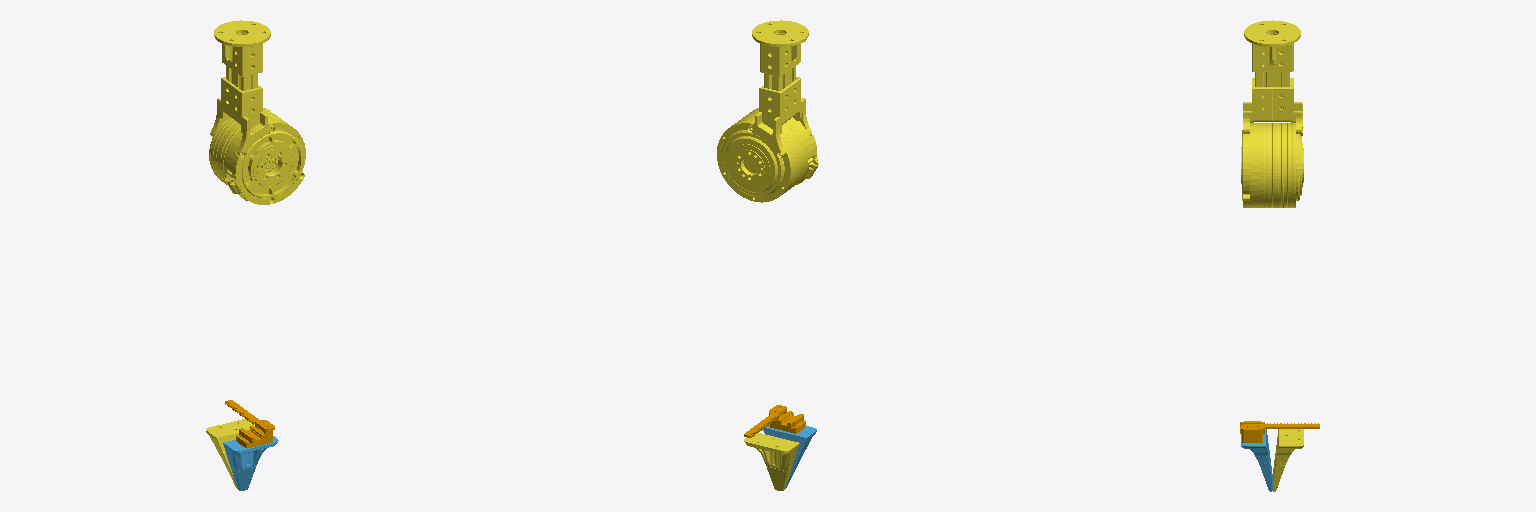
The robot description file, URDF, robot "vxai":
<?xml version="1.0"?>
<robot name="vxai">
  <material name="trossen_black">
    <texture filename="package://trossen_arm_description/meshes/trossen_black.png"/>
  </material>
  <link name="base_link">
    <inertial>
      <origin rpy="0 0 0" xyz="-0.00002199 -0.03351643 0.00006205"/>
      <mass value="1.87165014"/>
      <inertia ixx="0.00209272" ixy="-0.00000341" ixz="-0.00000001" iyy="0.00299206" iyz="-0.00000068" izz="0.00207913"/>
    </inertial>
    <visual>
      <origin rpy="0 0 0" xyz="0 0 0"/>
      <geometry>
        <mesh filename="package://trossen_arm_description/meshes/vxai/base_link_right.stl"/>
      </geometry>
      <material name="trossen_black"/>
    </visual>
    <collision>
      <origin rpy="0 0 0" xyz="0 0 0"/>
      <geometry>
        <mesh filename="package://trossen_arm_description/meshes/vxai/base_link_right.stl"/>
      </geometry>
    </collision>
  </link>
  <link name="link_1">
    <inertial>
      <origin rpy="0 0 0" xyz="0.00275058 -0.05744640 -0.00007470"/>
      <mass value="1.28114157"/>
      <inertia ixx="0.00180008" ixy="0.00001517" ixz="0.00000048" iyy="0.00124234" iyz="-0.00000523" izz="0.00154695"/>
    </inertial>
    <visual>
      <origin rpy="0 0 0" xyz="0 0 0"/>
      <geometry>
        <mesh filename="package://trossen_arm_description/meshes/vxai/link_1_right.stl"/>
      </geometry>
      <material name="trossen_black"/>
    </visual>
    <collision>
      <origin rpy="0 0 0" xyz="0 0 0"/>
      <geometry>
        <mesh filename="package://trossen_arm_description/meshes/vxai/link_1_right.stl"/>
      </geometry>
    </collision>
  </link>
  <joint name="joint_0" type="revolute">
    <parent link="base_link"/>
    <child link="link_1"/>
    <origin rpy="0 0 0" xyz="0 -0.068 0"/>
    <axis xyz="0 -1 0"/>
    <limit effort="0" lower="-1.5707963267948966" upper="3.141592653589793" velocity="6.283185307179586"/>
  </joint>
  <link name="link_2">
    <inertial>
      <origin rpy="0 0 0" xyz="0.00004155 0.00000477 -0.09223936"/>
      <mass value="1.58168513"/>
      <inertia ixx="0.00303540" ixy="0.00000094" ixz="0.00000007" iyy="0.00325708" iyz="0.00000058" izz="0.00202764"/>
    </inertial>
    <visual>
      <origin rpy="0 0 0" xyz="0 0 0"/>
      <geometry>
        <mesh filename="package://trossen_arm_description/meshes/vxai/link_2.stl"/>
      </geometry>
      <material name="trossen_black"/>
    </visual>
    <collision>
      <origin rpy="0 0 0" xyz="0 0 0"/>
      <geometry>
        <mesh filename="package://trossen_arm_description/meshes/vxai/link_2.stl"/>
      </geometry>
    </collision>
  </link>
  <joint name="joint_1" type="revolute">
    <parent link="link_1"/>
    <child link="link_2"/>
    <axis xyz="1 0 0"/>
    <origin rpy="0 0 0" xyz="0 -0.064 0"/>
    <limit effort="0" lower="-3.141592653589793" upper="0" velocity="6.283185307179586"/>
  </joint>
  <link name="link_3">
    <inertial>
      <origin rpy="0 0 0" xyz="0.01469489 -0.00233198 -0.13174594"/>
      <mass value="1.51522891"/>
      <inertia ixx="0.00491722" ixy="0.00001966" ixz="0.00061652" iyy="0.00521379" iyz="-0.00008813" izz="0.00131018"/>
    </inertial>
    <visual>
      <origin rpy="0 0 0" xyz="0 0 0"/>
      <geometry>
        <mesh filename="package://trossen_arm_description/meshes/vxai/link_3_right.stl"/>
      </geometry>
      <material name="trossen_black"/>
    </visual>
    <collision>
      <origin rpy="0 0 0" xyz="0 0 0"/>
      <geometry>
        <mesh filename="package://trossen_arm_description/meshes/vxai/link_3_right.stl"/>
      </geometry>
    </collision>
  </link>
  <joint name="joint_2" type="revolute">
    <origin rpy="0 0 0" xyz="0 0 -0.1284"/>
    <parent link="link_2"/>
    <child link="link_3"/>
    <axis xyz="0 0 -1"/>
    <limit effort="0" lower="-1.5707963267948966" upper="1.5707963267948966" velocity="6.283185307179586"/>
  </joint>
  <link name="link_4">
    <inertial>
      <origin rpy="0 0 0" xyz="-0.01788633 0.00011005 -0.07293050"/>
      <mass value="0.59839689"/>
      <inertia ixx="0.00082356" ixy="0.00000013" ixz="-0.00008634" iyy="0.00069719" iyz="0.00000093" izz="0.00052102"/>
    </inertial>
    <visual>
      <origin rpy="0 0 0" xyz="0 0 0"/>
      <geometry>
        <mesh filename="package://trossen_arm_description/meshes/vxai/link_4.stl"/>
      </geometry>
      <material name="trossen_black"/>
    </visual>
    <collision>
      <origin rpy="0 0 0" xyz="0 0 0"/>
      <geometry>
        <mesh filename="package://trossen_arm_description/meshes/vxai/link_4.stl"/>
      </geometry>
    </collision>
  </link>
  <joint name="joint_3" type="revolute">
    <origin rpy="0 0 0" xyz="0.02 0 -0.159"/>
    <parent link="link_3"/>
    <child link="link_4"/>
    <axis xyz="0 -1 0"/>
    <limit effort="0" lower="0" upper="2.356194490192345" velocity="6.283185307179586"/>
  </joint>
  <link name="link_5">
    <inertial>
      <origin rpy="0 0 0" xyz="-0.00011067 0.00225112 -0.04045079"/>
      <mass value="0.60644692"/>
      <inertia ixx="0.00094550" ixy="0.00000375" ixz="-0.00000789" iyy="0.00054664" iyz="-0.00000214" izz="0.00066100"/>
    </inertial>
    <visual>
      <origin rpy="0 0 0" xyz="0 0 0"/>
      <geometry>
        <mesh filename="package://trossen_arm_description/meshes/vxai/link_5.stl"/>
      </geometry>
      <material name="trossen_black"/>
    </visual>
    <collision>
      <origin rpy="0 0 0" xyz="0 0 0"/>
      <geometry>
        <mesh filename="package://trossen_arm_description/meshes/vxai/link_5.stl"/>
      </geometry>
    </collision>
  </link>
  <joint name="joint_4" type="revolute">
    <origin rpy="0 0 0" xyz="-0.02 0 -0.1065"/>
    <parent link="link_4"/>
    <child link="link_5"/>
    <axis xyz="0 0 -1"/>
    <limit effort="0" lower="-1.5707963267948966" upper="1.5707963267948966" velocity="6.283185307179586"/>
  </joint>
  <link name="link_6">
    <inertial>
      <origin rpy="0 0 0" xyz="-0.00058762 0.00058070 0.00001797"/>
      <mass value="0.38858221"/>
      <inertia ixx="0.00018958" ixy="-0.00000050" ixz="0.00000001" iyy="0.00026787" iyz="0.00000008" izz="0.00031658"/>
    </inertial>
    <visual>
      <origin rpy="0 0 0" xyz="0 0 0"/>
      <geometry>
        <mesh filename="package://trossen_arm_description/meshes/vxai/link_6.stl"/>
      </geometry>
      <material name="trossen_black"/>
    </visual>
    <collision>
      <origin rpy="0 0 0" xyz="0 0 0"/>
      <geometry>
        <mesh filename="package://trossen_arm_description/meshes/vxai/link_6.stl"/>
      </geometry>
    </collision>
  </link>
  <joint name="joint_5" type="revolute">
    <origin rpy="0 0 0" xyz="0 0 -0.113"/>
    <parent link="link_5"/>
    <child link="link_6"/>
    <axis xyz="0 1 0"/>
    <limit effort="0" lower="-0.7853981633974483" upper="0.7853981633974483" velocity="6.283185307179586"/>
  </joint>
  <link name="link_7">
    <inertial>
      <origin rpy="0 0 0" xyz="-0.01847211 -0.00000697 -0.08476049"/>
      <mass value="0.57903811"/>
      <inertia ixx="0.00135277" ixy="-0.00000006" ixz="-0.00009912" iyy="0.00077371" iyz="0.00000049" izz="0.00085992"/>
    </inertial>
    <visual>
      <origin rpy="0 0 0" xyz="0 0 0"/>
      <geometry>
        <mesh filename="package://trossen_arm_description/meshes/vxai/link_7.stl"/>
      </geometry>
      <material name="trossen_black"/>
    </visual>
    <collision>
      <origin rpy="0 0 0" xyz="0 0 0"/>
      <geometry>
        <mesh filename="package://trossen_arm_description/meshes/vxai/link_7.stl"/>
      </geometry>
    </collision>
  </link>
  <joint name="joint_6" type="revolute">
    <origin rpy="0 0 0" xyz="0.021 0 0"/>
    <parent link="link_6"/>
    <child link="link_7"/>
    <axis xyz="1 0 0"/>
    <limit effort="0" lower="-1.5707963267948966" upper="1.5707963267948966" velocity="6.283185307179586"/>
  </joint>
  <link name="carriage_right">
    <inertial>
      <origin rpy="0 0 0" xyz="0.00457901 0.00403514 0.00889602"/>
      <mass value="0.05036313"/>
      <inertia ixx="0.00001378" ixy="-0.00000172" ixz="-0.00000104" iyy="0.00000591" iyz="-0.00000165" izz="0.00001736"/>
    </inertial>
    <visual>
      <origin rpy="0 0 0" xyz="0 0 0"/>
      <geometry>
        <mesh filename="package://trossen_arm_description/meshes/vxai/carriage_right.stl"/>
      </geometry>
      <material name="trossen_black"/>
    </visual>
    <collision>
      <origin rpy="0 0 0" xyz="0 0 0"/>
      <geometry>
        <mesh filename="package://trossen_arm_description/meshes/vxai/carriage_right.stl"/>
      </geometry>
    </collision>
  </link>
  <joint name="right_carriage_joint" type="prismatic">
    <origin rpy="0 0 0" xyz="-0.021 -0.022974 -0.1305"/>
    <parent link="link_7"/>
    <child link="carriage_right"/>
    <mimic joint="left_carriage_joint"/>
    <axis xyz="0 -1 0"/>
    <limit effort="0" lower="0" upper="0.04" velocity="0.25"/>
  </joint>
  <link name="gripper_right">
    <inertial>
      <origin rpy="0 0 0" xyz="-0.00215452 0.00901223 -0.01893989"/>
      <mass value="0.03090786"/>
      <inertia ixx="0.00001184" ixy="0.00000020" ixz="-0.00000029" iyy="0.00001487" iyz="0.00000321" izz="0.00000769"/>
    </inertial>
    <visual>
      <origin rpy="0 0 0" xyz="0 0 0"/>
      <geometry>
        <mesh filename="package://trossen_arm_description/meshes/vxai/gripper_right.stl"/>
      </geometry>
      <material name="trossen_black"/>
    </visual>
    <collision>
      <origin rpy="0 0 0" xyz="0 0 0"/>
      <geometry>
        <mesh filename="package://trossen_arm_description/meshes/vxai/gripper_right.stl"/>
      </geometry>
    </collision>
  </link>
  <joint name="right_gripper_joint" type="fixed">
    <origin rpy="0 0 0" xyz="0 0 0"/>
    <parent link="carriage_right"/>
    <child link="gripper_right"/>
  </joint>
  <link name="carriage_left">
    <inertial>
      <origin rpy="0 0 0" xyz="-0.00457908 -0.00403515 0.00889602"/>
      <mass value="0.05036313"/>
      <inertia ixx="0.00001378" ixy="-0.00000172" ixz="0.00000104" iyy="0.00000591" iyz="0.00000165" izz="0.00001736"/>
    </inertial>
    <visual>
      <origin rpy="0 0 0" xyz="0 0 0"/>
      <geometry>
        <mesh filename="package://trossen_arm_description/meshes/vxai/carriage_left.stl"/>
      </geometry>
      <material name="trossen_black"/>
    </visual>
    <collision>
      <origin rpy="0 0 0" xyz="0 0 0"/>
      <geometry>
        <mesh filename="package://trossen_arm_description/meshes/vxai/carriage_left.stl"/>
      </geometry>
    </collision>
  </link>
  <joint name="left_carriage_joint" type="prismatic">
    <origin rpy="0 0 0" xyz="-0.021 0.022974 -0.1305"/>
    <parent link="link_7"/>
    <child link="carriage_left"/>
    <axis xyz="0 1 0"/>
    <limit effort="0" lower="0" upper="0.04" velocity="0.25"/>
  </joint>
  <link name="gripper_left">
    <inertial>
      <origin rpy="0 0 0" xyz="-0.00215462 -0.00901217 -0.01893993"/>
      <mass value="0.03090787"/>
      <inertia ixx="0.00001184" ixy="-0.00000020" ixz="-0.00000029" iyy="0.00001487" iyz="-0.00000321" izz="0.00000769"/>
    </inertial>
    <visual>
      <origin rpy="0 0 0" xyz="0 0 0"/>
      <geometry>
        <mesh filename="package://trossen_arm_description/meshes/vxai/gripper_left.stl"/>
      </geometry>
      <material name="trossen_black"/>
    </visual>
    <collision>
      <origin rpy="0 0 0" xyz="0 0 0"/>
      <geometry>
        <mesh filename="package://trossen_arm_description/meshes/vxai/gripper_left.stl"/>
      </geometry>
    </collision>
  </link>
  <joint name="gripper_left_joint" type="fixed">
    <origin rpy="0 0 0" xyz="0 0 0"/>
    <parent link="carriage_left"/>
    <child link="gripper_left"/>
  </joint>
  <joint name="ee_gripper" type="fixed">
    <origin rpy="0 0 0" xyz="-0.021 0 -0.200062"/>
    <parent link="link_7"/>
    <child link="ee_gripper_link"/>
  </joint>
  <link name="ee_gripper_link"/>
</robot>

--- What the picture shows (computed from the rendered views, not written in the file) ---
Views: 3 orthographic renders of the robot side by side, from view 1: azimuth 30°, elevation 25°; view 2: azimuth 150°, elevation 25°; view 3: azimuth 270°, elevation 25°.
Model vxai with 13 links and 12 joints (7 revolute, 2 prismatic, 3 fixed), rooted at base_link, posed all joints at 0.
Visible links, largest first — view 1: link_3, gripper_right, carriage_right, gripper_left; view 2: link_3, gripper_left, carriage_right, gripper_right; view 3: link_3, gripper_left, carriage_right, gripper_right.
Boxes of the visible links, box(x1,y1,x2,y2) form: link_3: box(209, 20, 305, 204); gripper_right: box(223, 436, 278, 490); carriage_right: box(225, 400, 274, 447); gripper_left: box(206, 419, 254, 488); link_3: box(717, 20, 818, 202); gripper_left: box(744, 433, 799, 490); carriage_right: box(744, 405, 805, 437); gripper_right: box(762, 424, 816, 488); link_3: box(1241, 20, 1303, 207); gripper_left: box(1273, 429, 1303, 491); carriage_right: box(1240, 421, 1319, 442); gripper_right: box(1241, 429, 1272, 491).
Bounding box of the posed robot: 0.1054 × 0.0917 × 0.5786 m (x, y, z).
4 mesh visuals loaded from 12 distinct referenced files (4 binary STL); not drawn: 8 (reference not matched to a file when rendering).